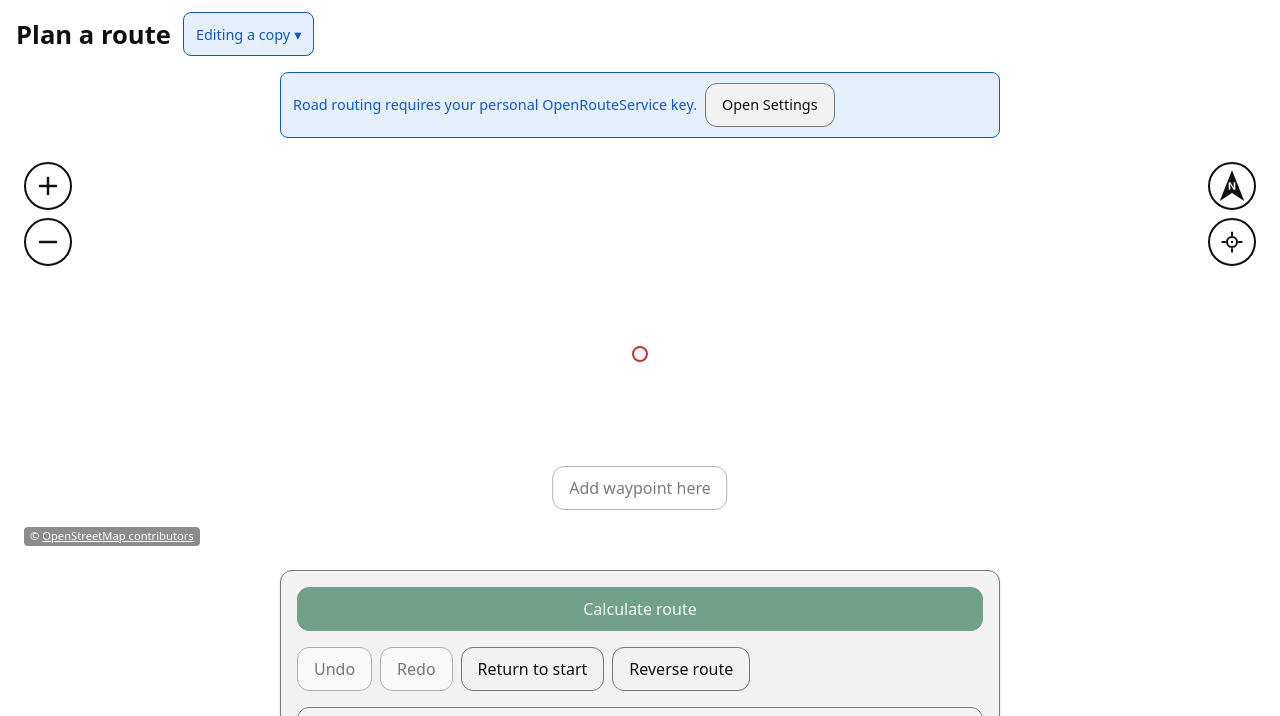
Scenario: PlanningScreen Reverse route (backlog item 38) › reverses waypoint order and appends the suffix to a named draft, persisted together
Click the button "Reverse route" at (681, 669), box [612, 647, 750, 691]
Wait 950 ms
(page scrolled)
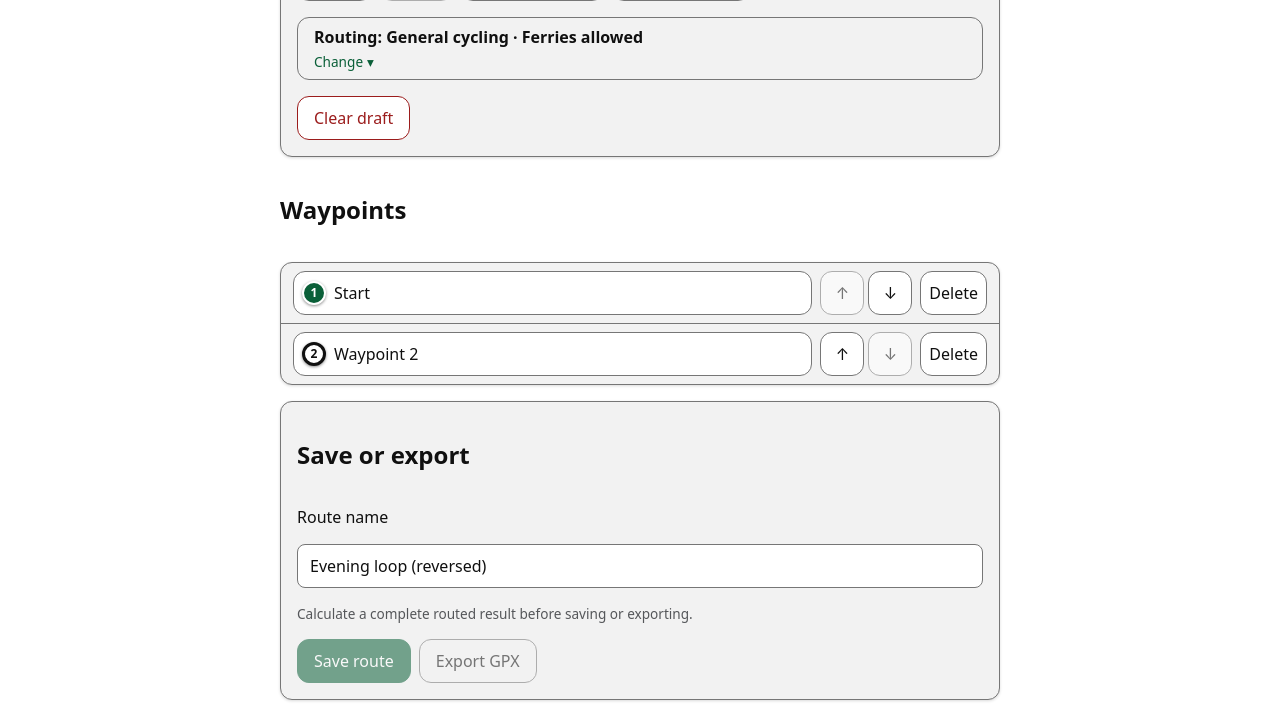
Check: the field showing "Evening loop (reversed)" is shown, box [297, 544, 983, 588]
